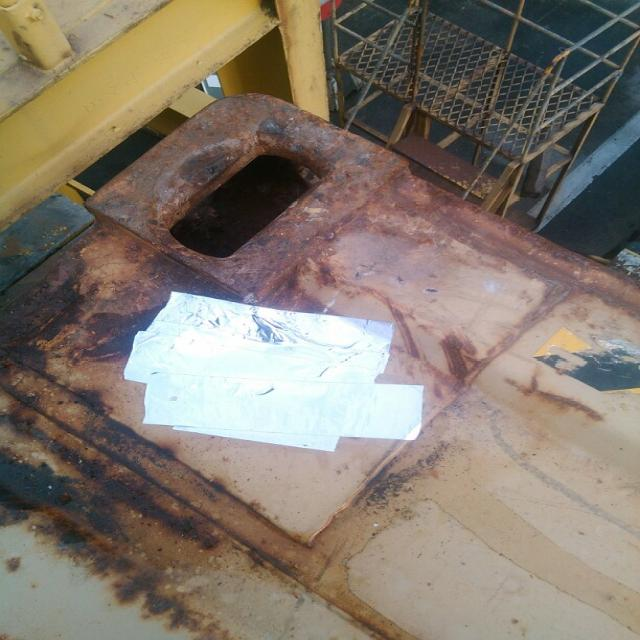rust: (2, 438, 308, 640), (1, 235, 158, 376)
